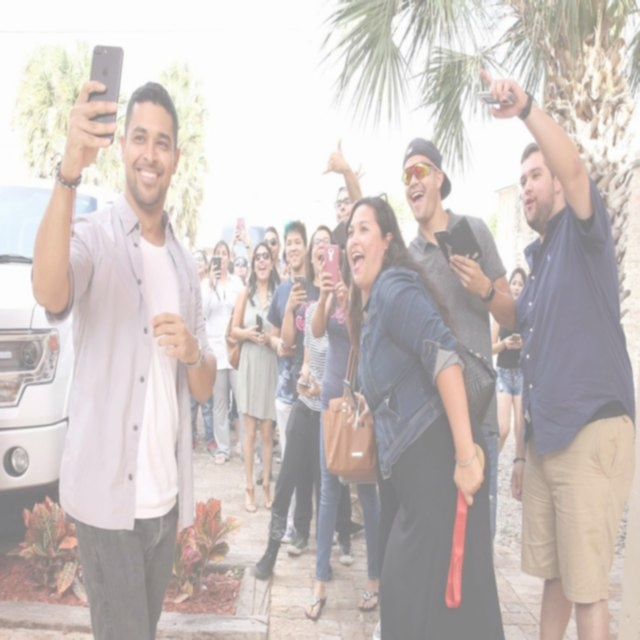pessoa: (30, 76, 223, 640), (478, 65, 640, 639), (344, 195, 508, 639), (401, 136, 516, 564), (303, 242, 383, 624), (280, 224, 356, 565), (254, 297, 334, 582), (224, 242, 282, 515), (200, 239, 262, 467), (274, 248, 314, 542), (266, 217, 308, 463), (491, 266, 528, 457), (312, 473, 366, 543), (321, 138, 362, 226), (228, 224, 254, 288), (262, 225, 288, 288), (270, 416, 284, 468), (192, 248, 210, 282), (205, 253, 213, 277), (226, 257, 235, 275)
